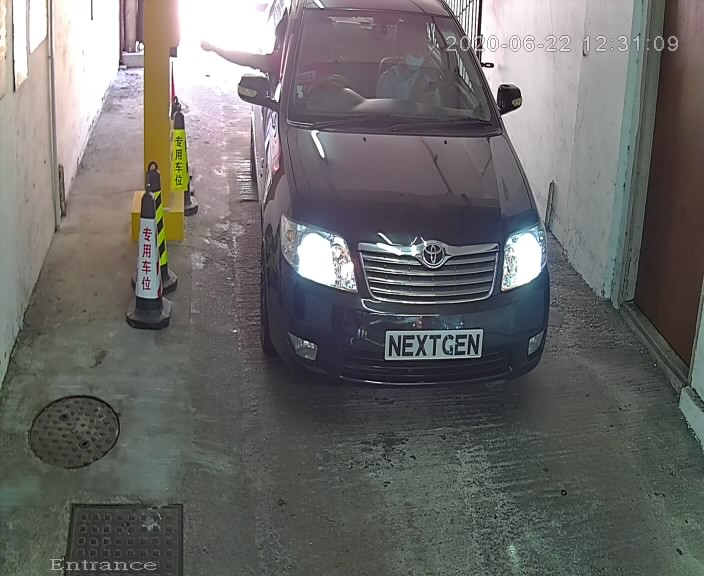privatecar: (221, 1, 551, 400)
